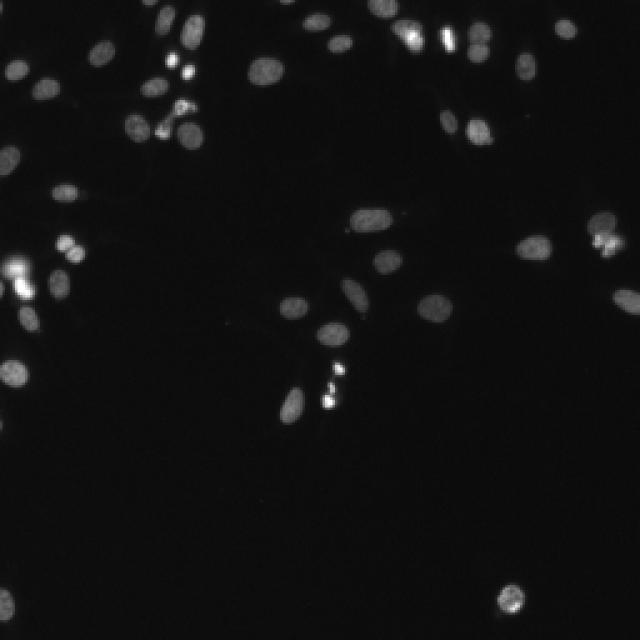cell: (122, 98, 205, 151), (0, 254, 39, 333), (439, 109, 495, 147), (586, 211, 626, 258), (320, 359, 349, 409), (345, 209, 392, 234), (164, 50, 198, 83), (466, 21, 492, 63), (250, 58, 285, 88), (342, 279, 369, 317), (279, 386, 306, 424), (516, 235, 554, 262), (179, 14, 205, 52), (418, 294, 452, 323), (55, 232, 85, 264), (392, 22, 422, 53), (496, 584, 526, 614), (0, 359, 30, 389), (88, 40, 118, 68), (371, 249, 402, 276), (140, 76, 171, 100), (154, 5, 176, 38), (0, 59, 30, 83), (30, 78, 60, 102), (320, 324, 350, 348), (515, 51, 538, 82), (48, 269, 70, 301), (612, 291, 640, 316), (0, 144, 20, 179), (280, 298, 310, 321), (301, 12, 331, 32), (50, 185, 81, 204), (1, 588, 16, 623), (440, 25, 458, 53), (328, 34, 352, 54), (555, 19, 576, 39)
